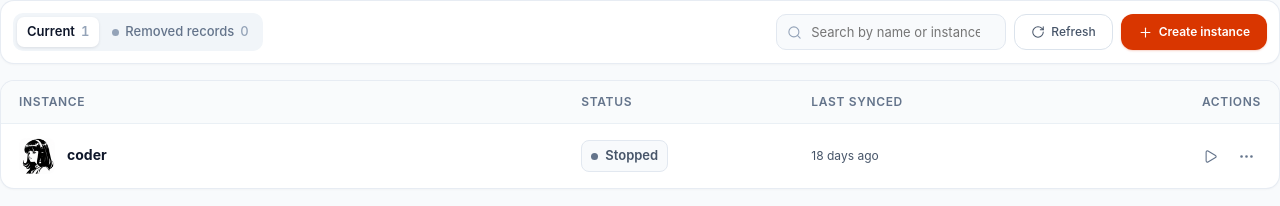
it: InstancesPage › shows authoritative lifecycle state and starts an Operation
Expected: the text "Stopped" is shown, [581,140,668,172]
Click the button named "Start".
click(1210, 156)  # box [1195,141,1225,171]
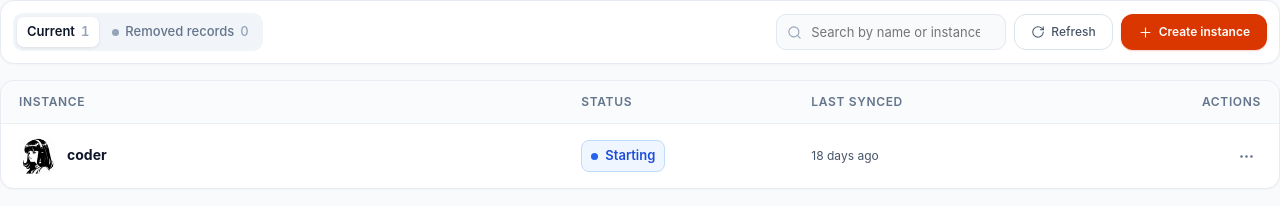
Expected: the text "Starting" is shown, [581,140,665,172]
